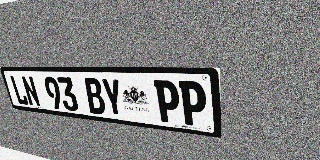3: (57, 77, 79, 112)
9: (43, 76, 65, 110)
B: (83, 78, 107, 115)
L: (9, 75, 29, 106)
N: (21, 76, 41, 107)
P: (179, 81, 207, 127), (154, 80, 181, 124)
Y: (100, 78, 125, 117)
